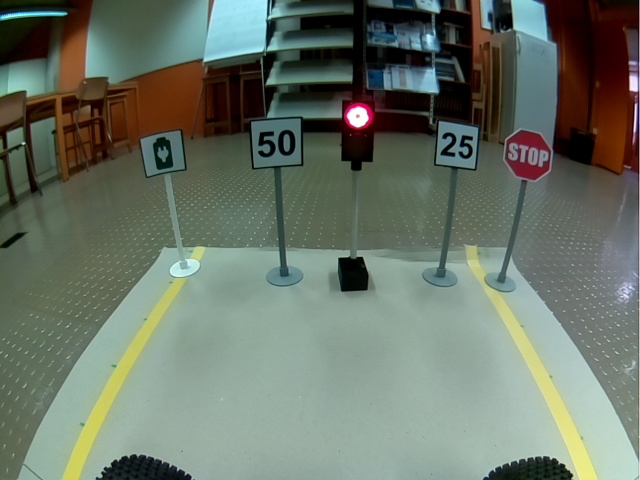battery: (139, 128, 187, 178)
speed25: (434, 119, 480, 171)
speed50: (250, 116, 303, 170)
stop: (503, 128, 553, 182)
trafficLightRed: (340, 100, 376, 162)
